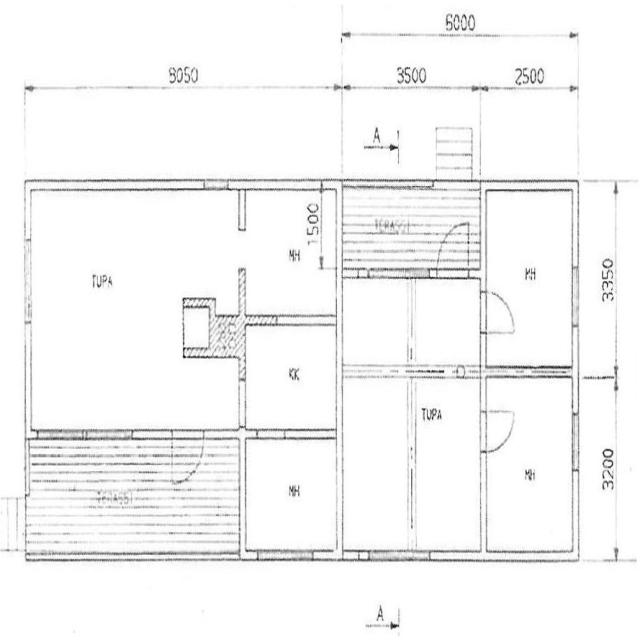door: (23, 183, 244, 417), (433, 217, 472, 278), (170, 428, 206, 487), (479, 287, 519, 338), (480, 406, 518, 452)
window: (18, 208, 36, 314), (251, 173, 319, 195)
zone: (482, 373, 577, 560), (483, 183, 578, 367), (408, 376, 484, 556), (340, 374, 413, 556), (240, 186, 332, 321), (242, 436, 338, 558), (241, 319, 336, 437), (408, 274, 481, 374), (341, 276, 413, 371), (0, 493, 26, 554)
